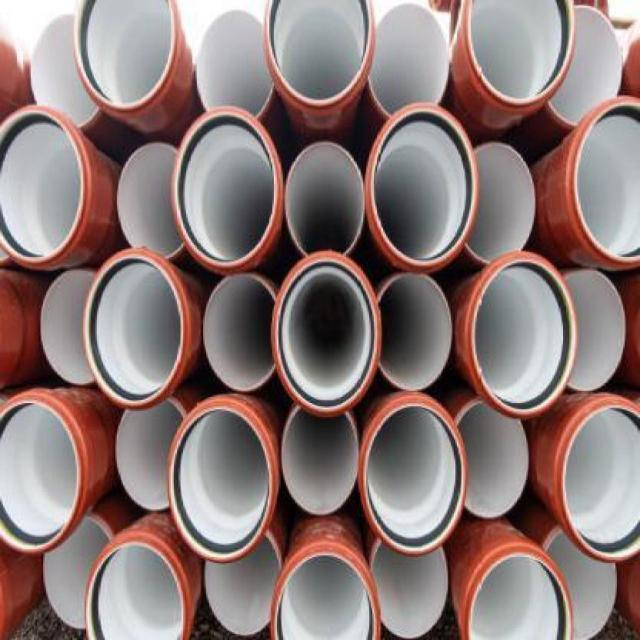pipe: (367, 101, 478, 274), (271, 252, 382, 417), (171, 107, 279, 270), (470, 259, 578, 418), (168, 407, 274, 565), (361, 400, 468, 556), (84, 253, 184, 408), (555, 402, 640, 562), (0, 109, 83, 265), (263, 0, 376, 110), (0, 399, 80, 553), (467, 0, 576, 111), (73, 0, 176, 112), (574, 100, 639, 265), (463, 545, 574, 640), (84, 540, 186, 639), (538, 521, 620, 640), (547, 5, 623, 130), (455, 397, 530, 519), (272, 552, 377, 639), (464, 141, 537, 265), (285, 142, 364, 256), (379, 272, 453, 392), (203, 275, 276, 394), (30, 13, 104, 130), (281, 406, 358, 516), (195, 10, 274, 116), (203, 532, 282, 637), (117, 143, 186, 260), (370, 538, 448, 640), (116, 399, 187, 510), (562, 271, 627, 391), (44, 516, 112, 630), (40, 269, 96, 386)
